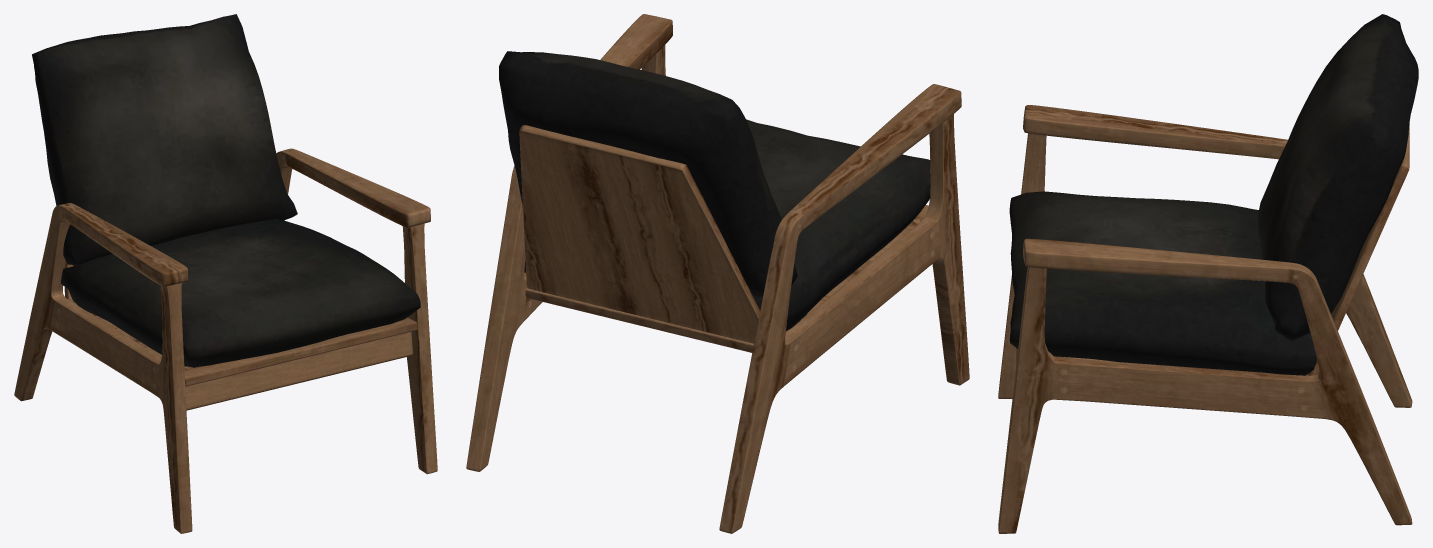
File: prop-armchair.glb
The picture shows the model from 3 angles, left to right: view 1: azimuth 30°, elevation 25°; view 2: azimuth 150°, elevation 25°; view 3: azimuth 270°, elevation 25°; orthographic projection. The views are drawn at different scales.
Visible parts, largest first — view 1: modern_arm_chair_01; view 2: modern_arm_chair_01; view 3: modern_arm_chair_01.
Boxes of the visible parts, x1,y1,x2,y2 form: modern_arm_chair_01: [14, 14, 437, 533]; modern_arm_chair_01: [466, 14, 969, 533]; modern_arm_chair_01: [998, 14, 1418, 533].
Bounding box in the file's own units: 0.8203 × 1.02 × 0.9865.
Materials: 2 (2 with a texture image).
